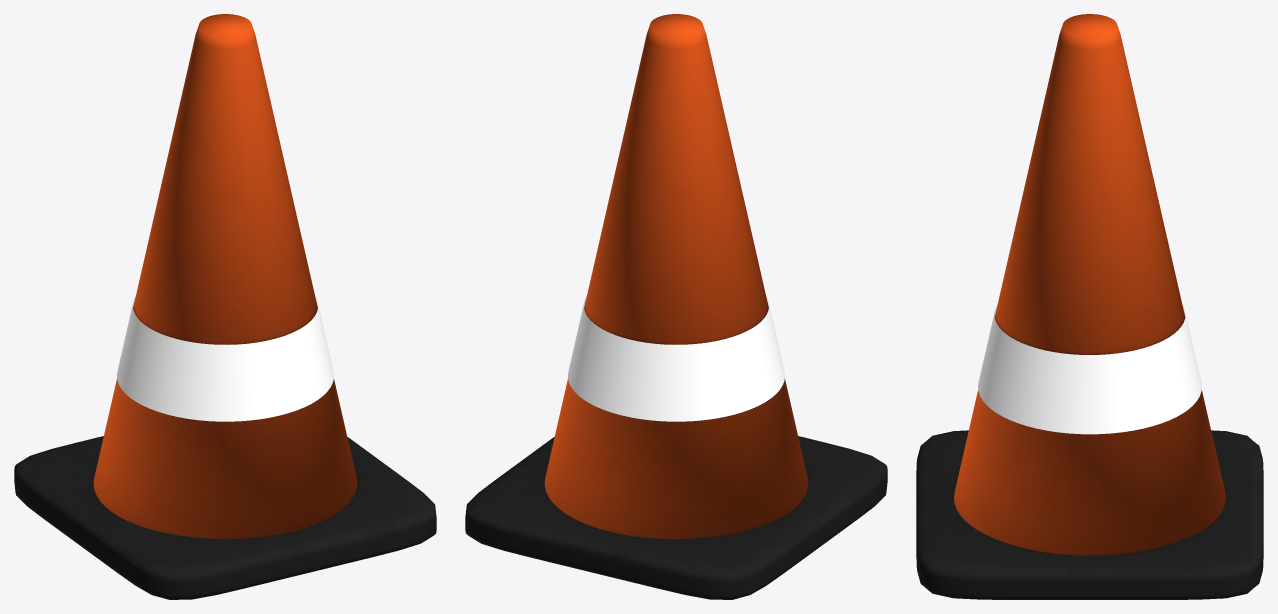
File: small.glb
3 views of the same model, side by side, from view 1: azimuth 30°, elevation 25°; view 2: azimuth 150°, elevation 25°; view 3: azimuth 270°, elevation 25° (orthographic). The views are drawn at different scales.
Visible parts, largest first — view 1: cone_plastic, cone_base, reflective_band; view 2: cone_plastic, cone_base, reflective_band; view 3: cone_plastic, cone_base, reflective_band.
Part boxes in pixels (bbox=[...]): cone_plastic: bbox=[93, 14, 357, 539]; cone_base: bbox=[14, 436, 436, 599]; reflective_band: bbox=[117, 296, 333, 421]; cone_plastic: bbox=[544, 14, 808, 539]; cone_base: bbox=[465, 436, 887, 599]; reflective_band: bbox=[568, 296, 784, 421]; cone_plastic: bbox=[954, 14, 1225, 555]; cone_base: bbox=[916, 430, 1263, 599]; reflective_band: bbox=[978, 305, 1201, 434].
Size of the model in its own units: 0.28 by 0.45 by 0.28.
Materials: 3 (2 with a texture image).
